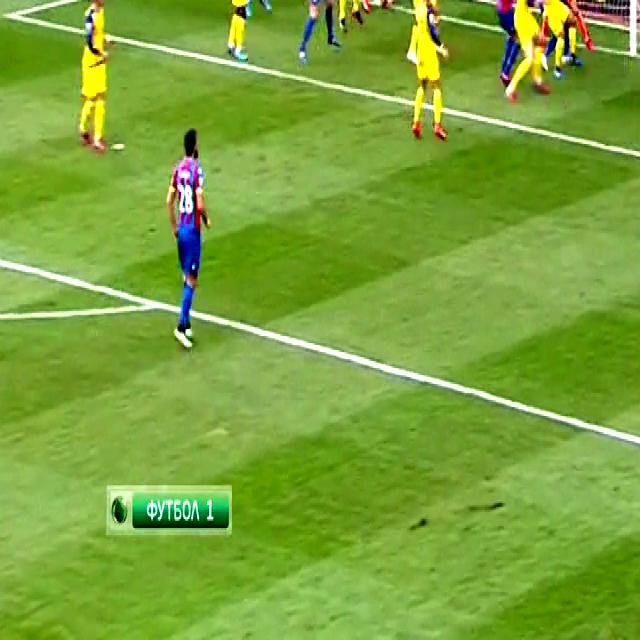soccer-player: (151, 125, 224, 357), (53, 0, 130, 164), (398, 0, 459, 149), (478, 0, 540, 101), (288, 0, 347, 73)
